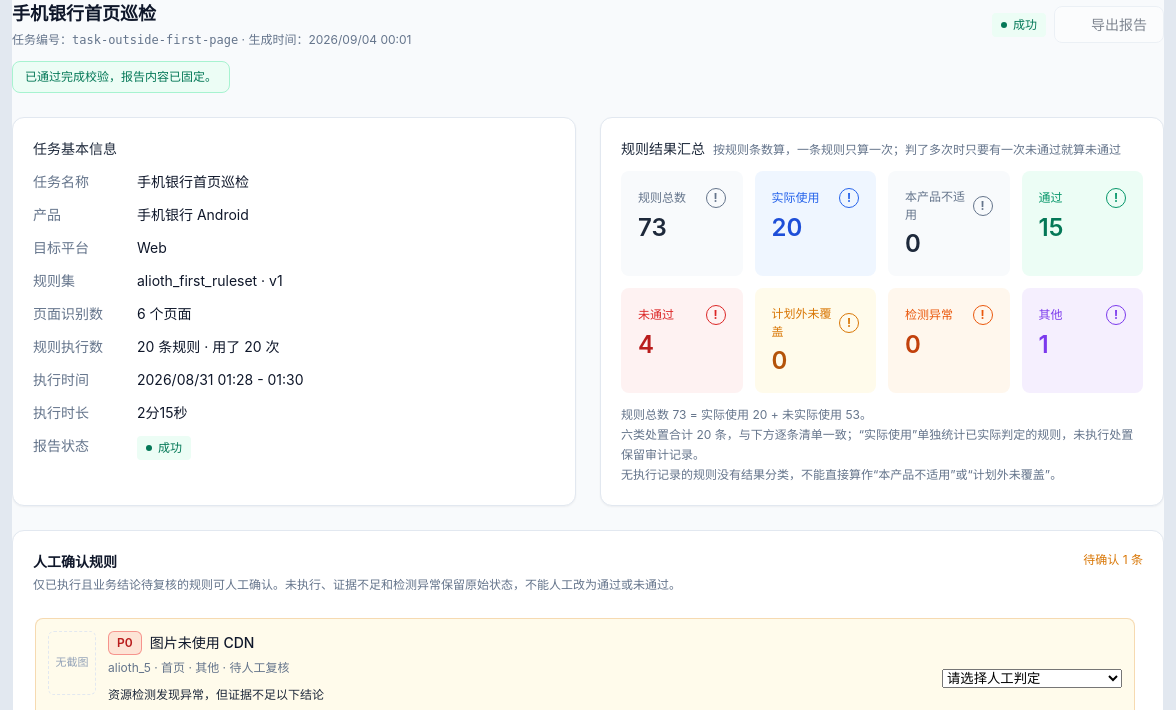
it: ReportCenterView 报告详情 › 规则总数为 73、实际使用为 20 时，已有说明区明确有记录占比与质检率不是同一指标
The width and height of the screenshot is (1176, 710).
Expected: the text "73" is shown, top-left (638, 213), bottom-right (667, 242)
Expected: the text "20" is shown, top-left (772, 213), bottom-right (802, 242)
Click the button with test id "status-help-used".
click(849, 198)  # box top-left (839, 188), bottom-right (859, 208)
(page scrolled)
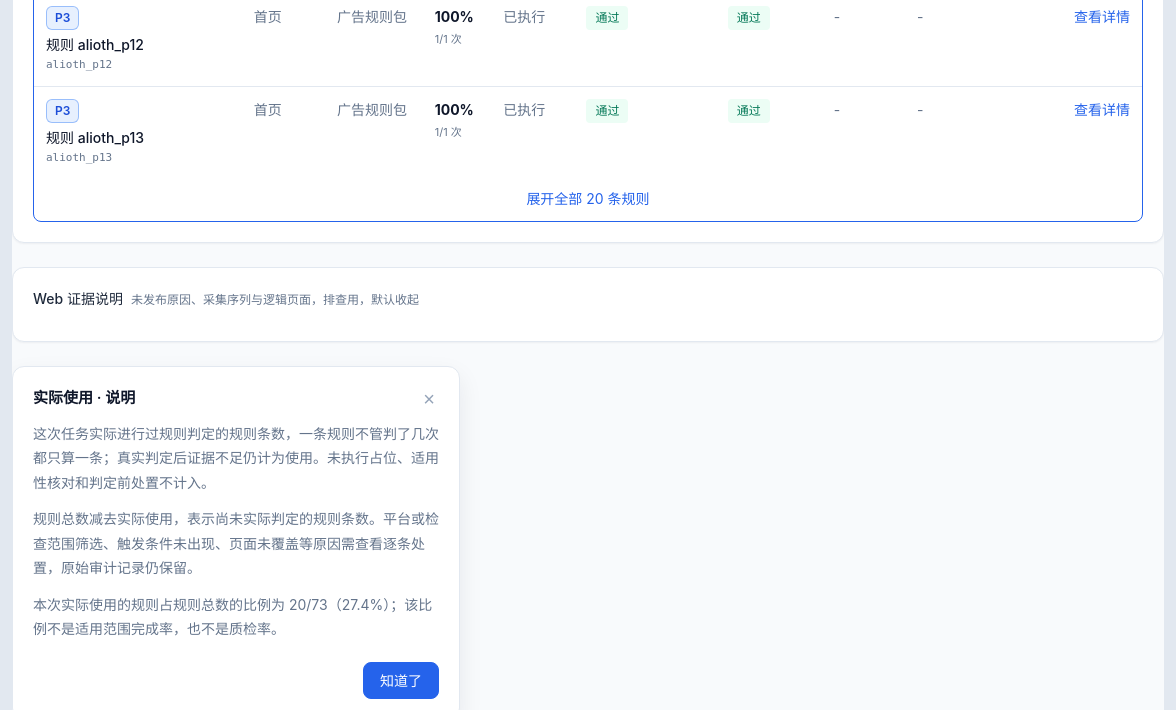
Expected: the element with test id "status-help" shows "实际使用的规则占规则总数的比例为 20/73（27.4%）", top-left (33, 596), bottom-right (432, 637)
Expected: the element with test id "status-help" shows "该比例不是适用范围完成率，也不是质检率", top-left (33, 596), bottom-right (432, 637)
Expected: the element with test id "status-help" shows "平台或检查范围筛选、触发条件未出现、页面未覆盖", top-left (33, 510), bottom-right (439, 576)
